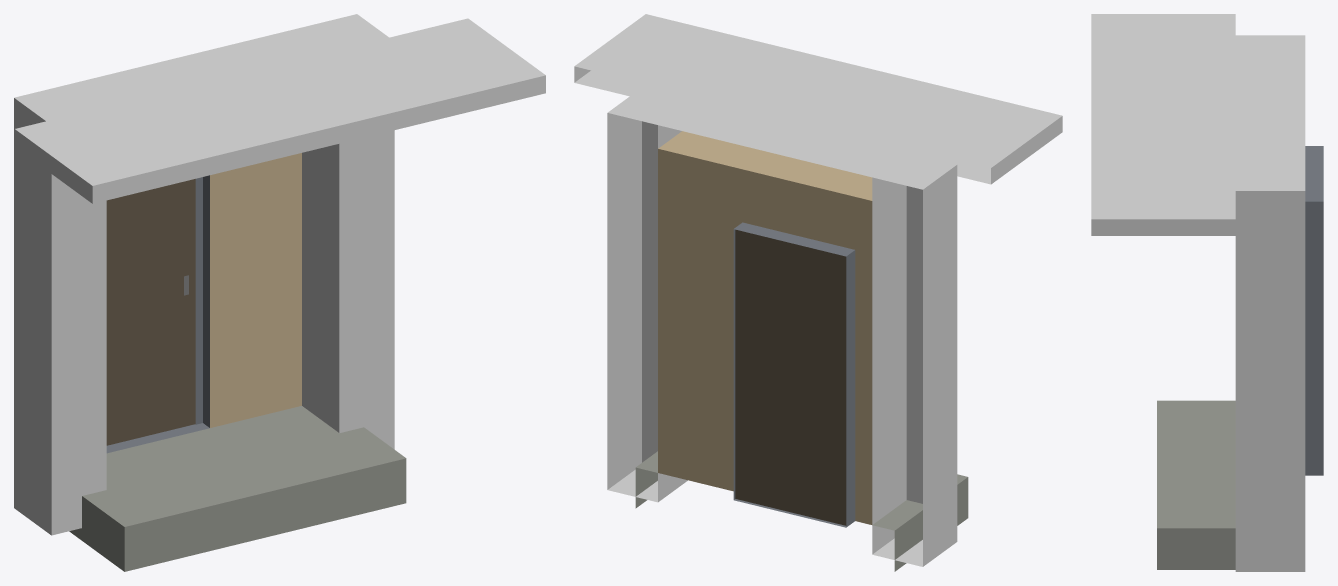
File: entrance.fbx
The picture shows the model from 3 angles, left to right: view 1: azimuth 30°, elevation 25°; view 2: azimuth 150°, elevation 25°; view 3: azimuth 270°, elevation 25°; orthographic projection. The views are drawn at different scales.
Visible parts, largest first — view 1: a2000s3/200/entrance; view 2: a2000s3/200/entrance; view 3: a2000s3/200/entrance.
Part boxes in pixels (box(x1,y1,x2,y2)): a2000s3/200/entrance: box(14, 14, 545, 571); a2000s3/200/entrance: box(574, 14, 1062, 571); a2000s3/200/entrance: box(1091, 14, 1323, 571).
Bounding box in the file's own units: 3.7 × 3.34 × 1.77.
